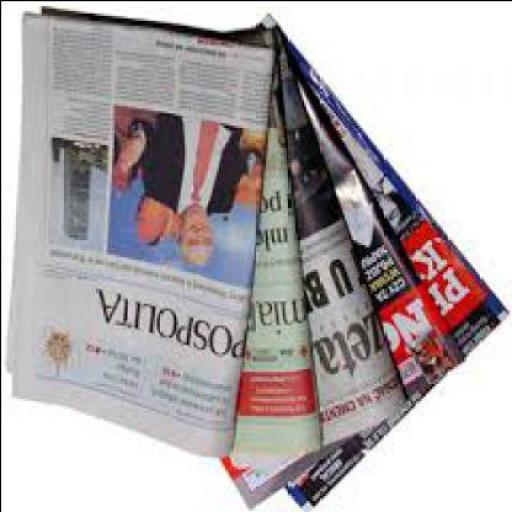paper: (96, 12, 511, 511), (158, 12, 480, 495), (36, 7, 320, 448), (149, 30, 409, 510), (16, 18, 278, 460)
